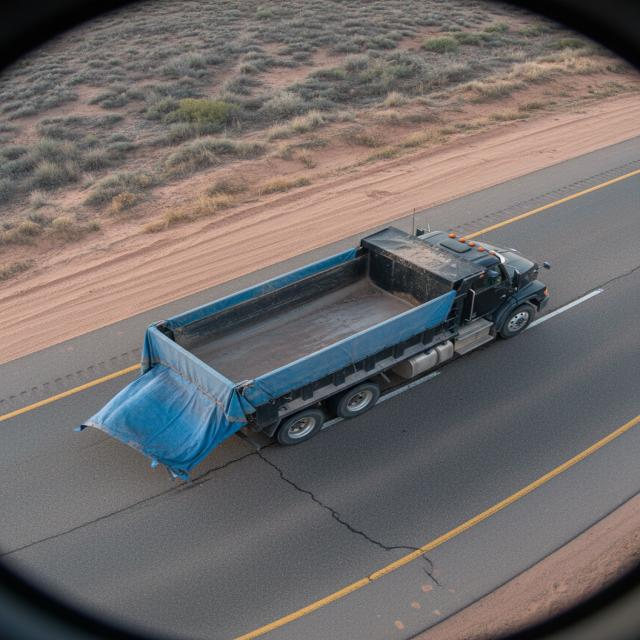trailer: (86, 229, 486, 421)
truck: (63, 197, 564, 477)
